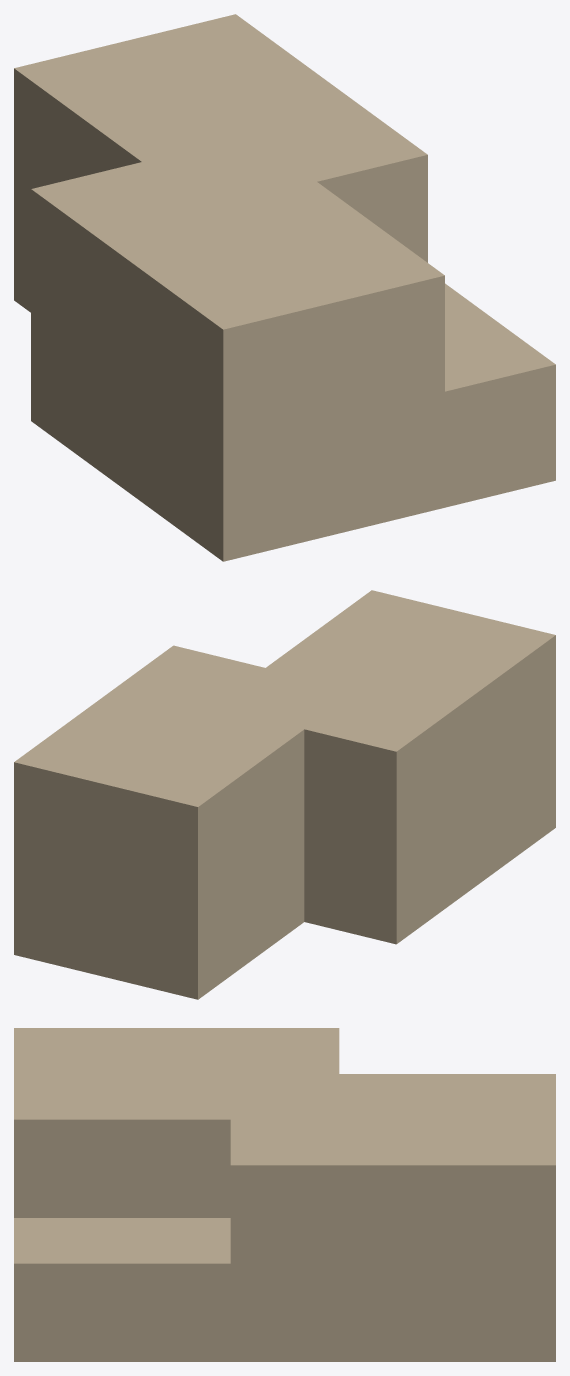
File: BS_Stone_5.fbx
3 views of the same model, one above another, from view 1: azimuth 30°, elevation 25°; view 2: azimuth 150°, elevation 25°; view 3: azimuth 270°, elevation 25° (orthographic). The views are drawn at different scales.
Parts seen in each view (by area): view 1: BS_Stone_5; view 2: BS_Stone_5; view 3: BS_Stone_5.
Part boxes in pixels (box(x1,y1,x2,y2)): BS_Stone_5: box(14, 14, 555, 561); BS_Stone_5: box(14, 590, 555, 999); BS_Stone_5: box(14, 1028, 555, 1361).
Size of the model in its own units: 7.5 by 12.5 by 5.
